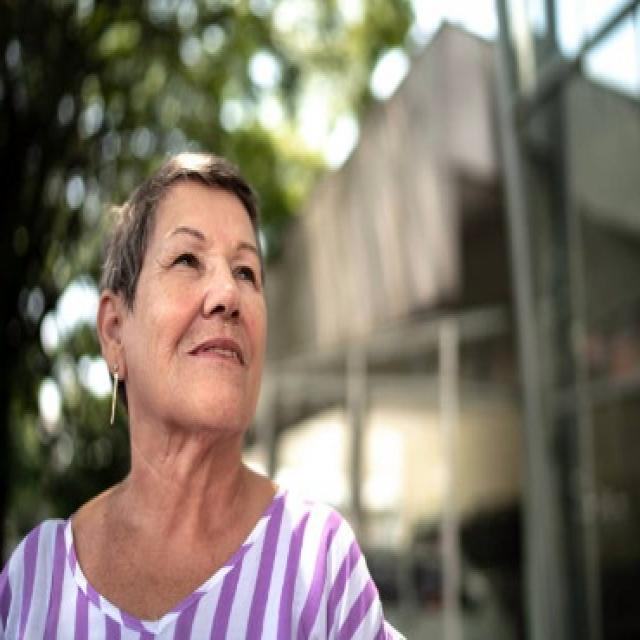adult: (27, 152, 389, 640)
